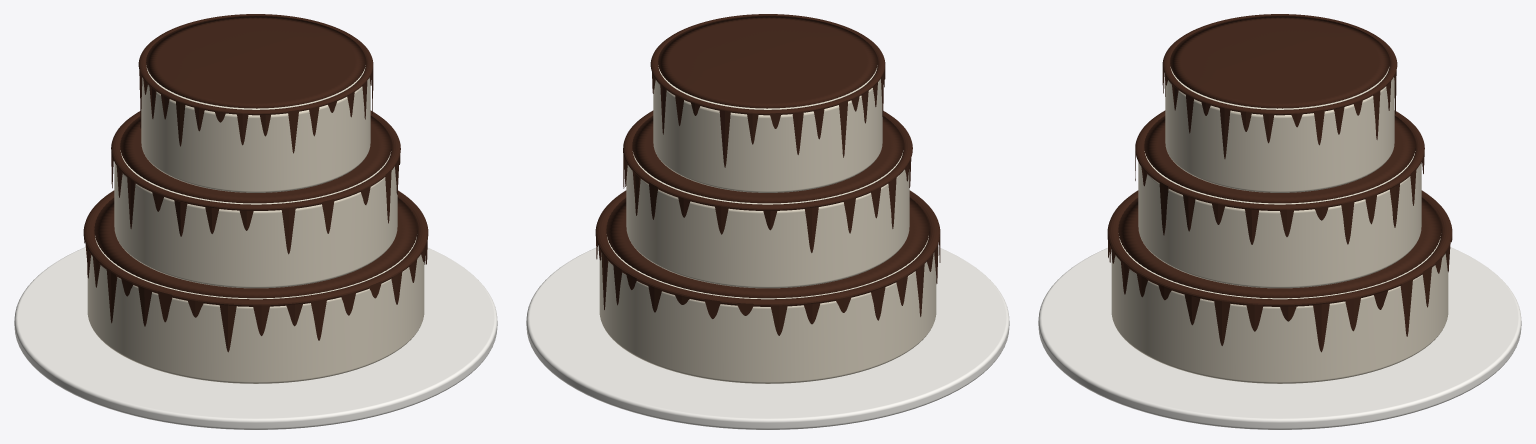
File: round_3_tier.glb
3 views of the same model, side by side, from view 1: azimuth 30°, elevation 25°; view 2: azimuth 150°, elevation 25°; view 3: azimuth 270°, elevation 25° (orthographic).
Visible parts, largest first — view 1: round_3_board, round_3_L1_body, round_3_L2_body, round_3_L3_body, round_3_L3_round_photo_photo_drip_glossy_top_cap, round_3_L1_round_photo_thick_smooth_chocolate_band, round_3_L1_round_photo_photo_drip_glossy_top_cap, round_3_L2_round_photo_thick_smooth_chocolate_band, round_3_L2_round_photo_photo_drip_glossy_top_cap, round_3_L3_round_photo_thick_smooth_chocolate_band, round_3_L1_top, round_3_L2_top (+1 smaller); view 2: round_3_board, round_3_L1_body, round_3_L2_body, round_3_L3_round_photo_photo_drip_glossy_top_cap, round_3_L3_body, round_3_L1_round_photo_thick_smooth_chocolate_band, round_3_L1_round_photo_photo_drip_glossy_top_cap, round_3_L2_round_photo_thick_smooth_chocolate_band, round_3_L3_round_photo_thick_smooth_chocolate_band, round_3_L2_round_photo_photo_drip_glossy_top_cap, round_3_L1_top, round_3_L2_top (+1 smaller); view 3: round_3_board, round_3_L1_body, round_3_L2_body, round_3_L3_body, round_3_L3_round_photo_photo_drip_glossy_top_cap, round_3_L1_round_photo_thick_smooth_chocolate_band, round_3_L2_round_photo_thick_smooth_chocolate_band, round_3_L1_round_photo_photo_drip_glossy_top_cap, round_3_L2_round_photo_photo_drip_glossy_top_cap, round_3_L3_round_photo_thick_smooth_chocolate_band, round_3_L1_top, round_3_L2_top (+1 smaller).
Boxes of the visible parts, box(x1,y1,x2,y2) form: round_3_board: box(14, 247, 497, 429); round_3_L1_body: box(87, 254, 424, 383); round_3_L2_body: box(114, 162, 397, 288); round_3_L3_body: box(141, 77, 370, 192); round_3_L3_round_photo_photo_drip_glossy_top_cap: box(146, 15, 365, 108); round_3_L1_round_photo_thick_smooth_chocolate_band: box(83, 190, 428, 352); round_3_L1_round_photo_photo_drip_glossy_top_cap: box(94, 197, 417, 298); round_3_L2_round_photo_thick_smooth_chocolate_band: box(111, 110, 400, 254); round_3_L2_round_photo_photo_drip_glossy_top_cap: box(120, 116, 391, 203); round_3_L3_round_photo_thick_smooth_chocolate_band: box(138, 14, 373, 153); round_3_L1_top: box(95, 236, 416, 299); round_3_L2_top: box(120, 150, 391, 204); round_3_board: box(526, 246, 1009, 429); round_3_L1_body: box(599, 252, 936, 383); round_3_L2_body: box(626, 165, 909, 288); round_3_L3_round_photo_photo_drip_glossy_top_cap: box(658, 15, 877, 108); round_3_L3_body: box(653, 79, 882, 192); round_3_L1_round_photo_thick_smooth_chocolate_band: box(595, 190, 940, 335); round_3_L1_round_photo_photo_drip_glossy_top_cap: box(606, 197, 929, 298); round_3_L2_round_photo_thick_smooth_chocolate_band: box(623, 110, 912, 252); round_3_L3_round_photo_thick_smooth_chocolate_band: box(650, 14, 885, 167); round_3_L2_round_photo_photo_drip_glossy_top_cap: box(632, 116, 903, 203); round_3_L1_top: box(607, 236, 928, 299); round_3_L2_top: box(632, 150, 903, 204); round_3_board: box(1038, 247, 1521, 429); round_3_L1_body: box(1111, 253, 1448, 383); round_3_L2_body: box(1138, 162, 1421, 288); round_3_L3_body: box(1165, 77, 1394, 192); round_3_L3_round_photo_photo_drip_glossy_top_cap: box(1170, 15, 1389, 108); round_3_L1_round_photo_thick_smooth_chocolate_band: box(1107, 190, 1452, 352); round_3_L2_round_photo_thick_smooth_chocolate_band: box(1135, 110, 1424, 244); round_3_L1_round_photo_photo_drip_glossy_top_cap: box(1118, 197, 1441, 298); round_3_L2_round_photo_photo_drip_glossy_top_cap: box(1144, 115, 1415, 203); round_3_L3_round_photo_thick_smooth_chocolate_band: box(1162, 14, 1397, 158); round_3_L1_top: box(1119, 236, 1440, 299); round_3_L2_top: box(1144, 151, 1415, 204).
Size of the model in its own units: 8.6 by 5.27 by 8.6.
